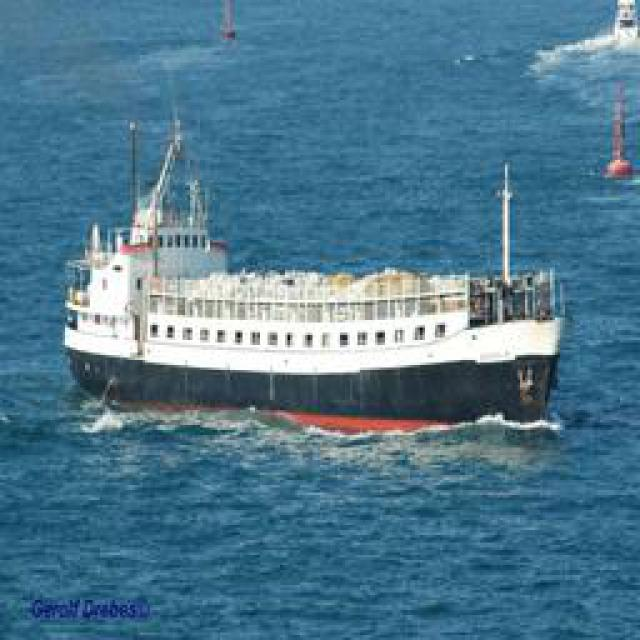Ship: (61, 93, 571, 441)
